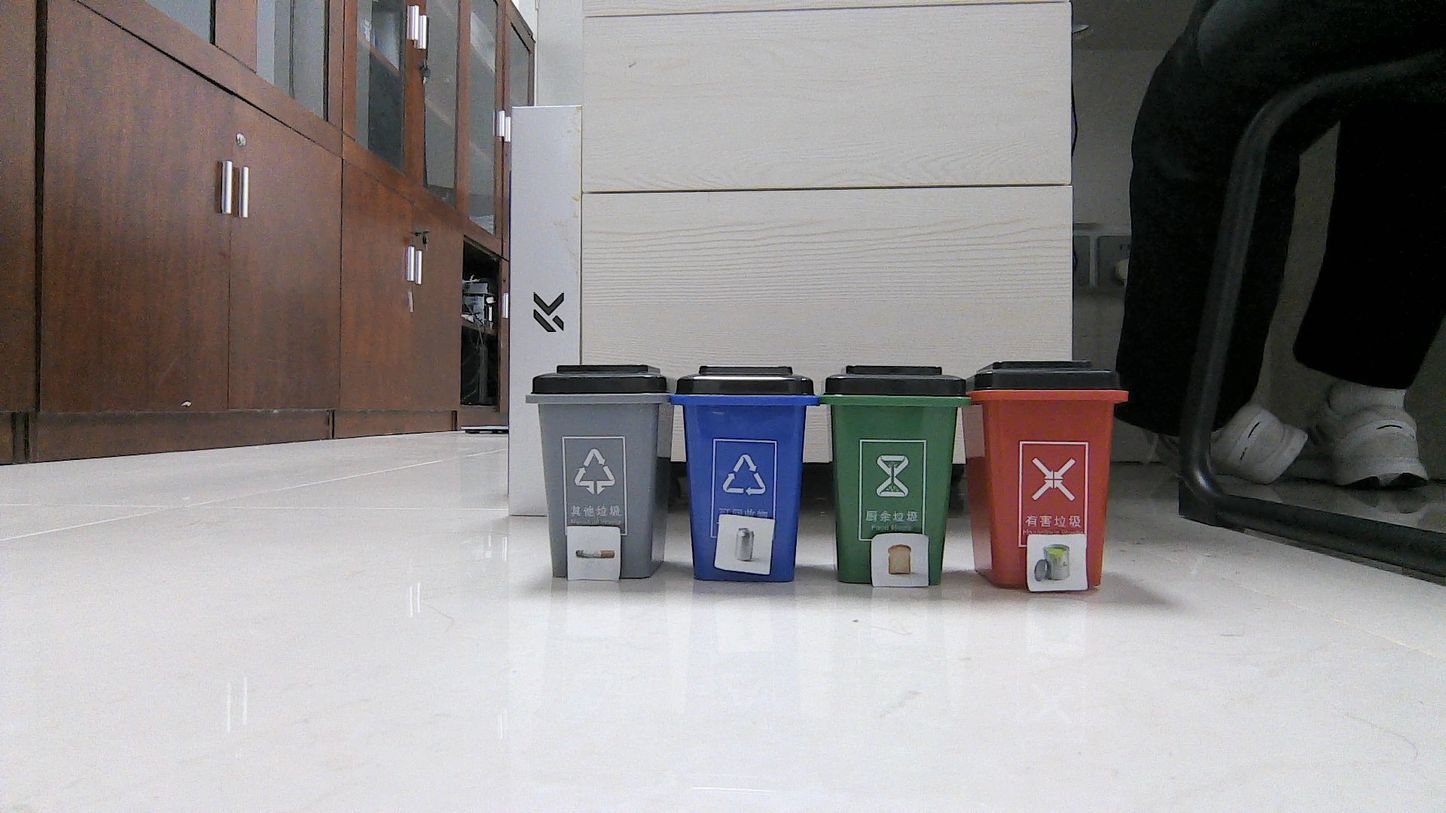food_trash: (877, 537, 923, 581)
hazardous_trash: (1031, 536, 1081, 587)
other_trash: (569, 528, 618, 577)
recyclable_trash: (721, 518, 768, 570)
